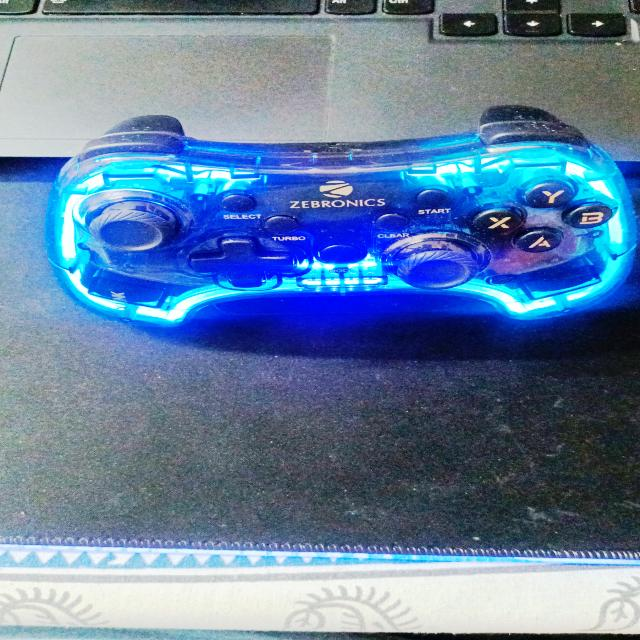gamepad: (42, 104, 640, 329)
